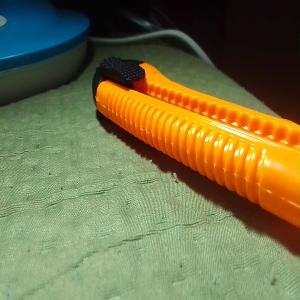estilete: (91, 56, 300, 230)
